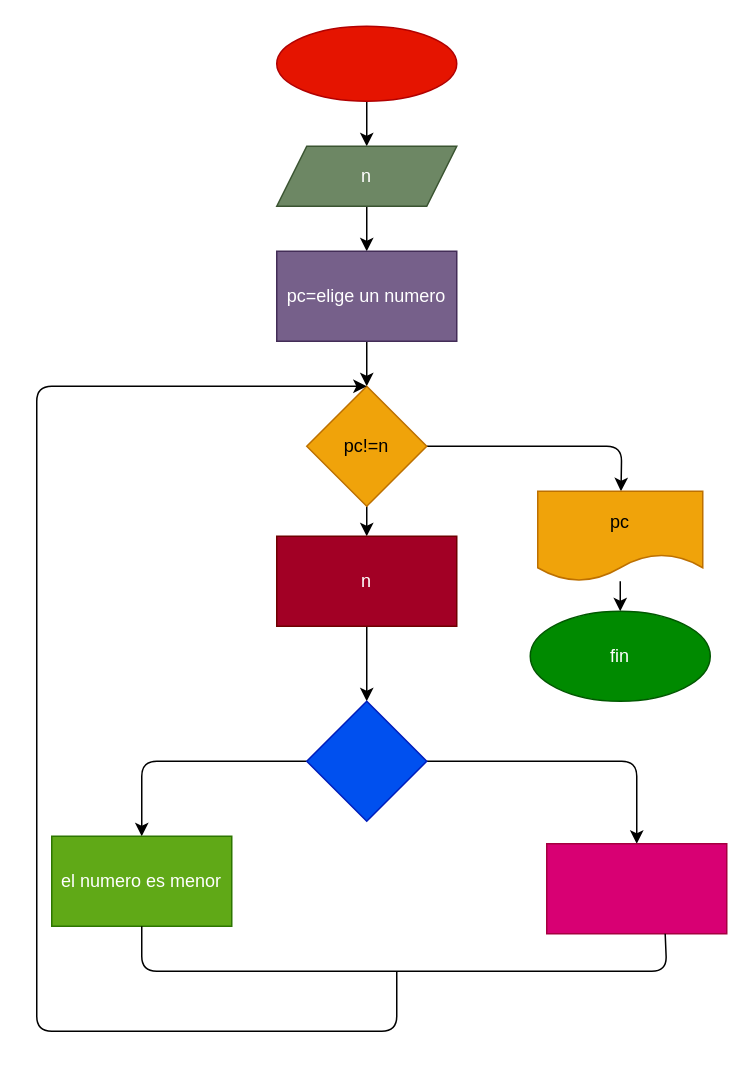
This 753x1070 diagram has some shape labels left out. Each missing label, with the box of its shape:
el numero es mayor: (545, 842, 727, 934)
inicio: (275, 25, 457, 101)
pc>n: (305, 700, 427, 821)
